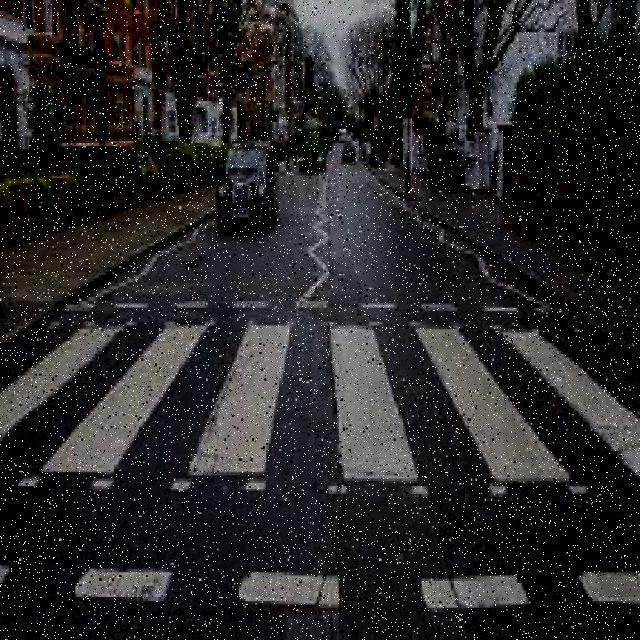Pedestrian crosswalk: (2, 307, 640, 500)
